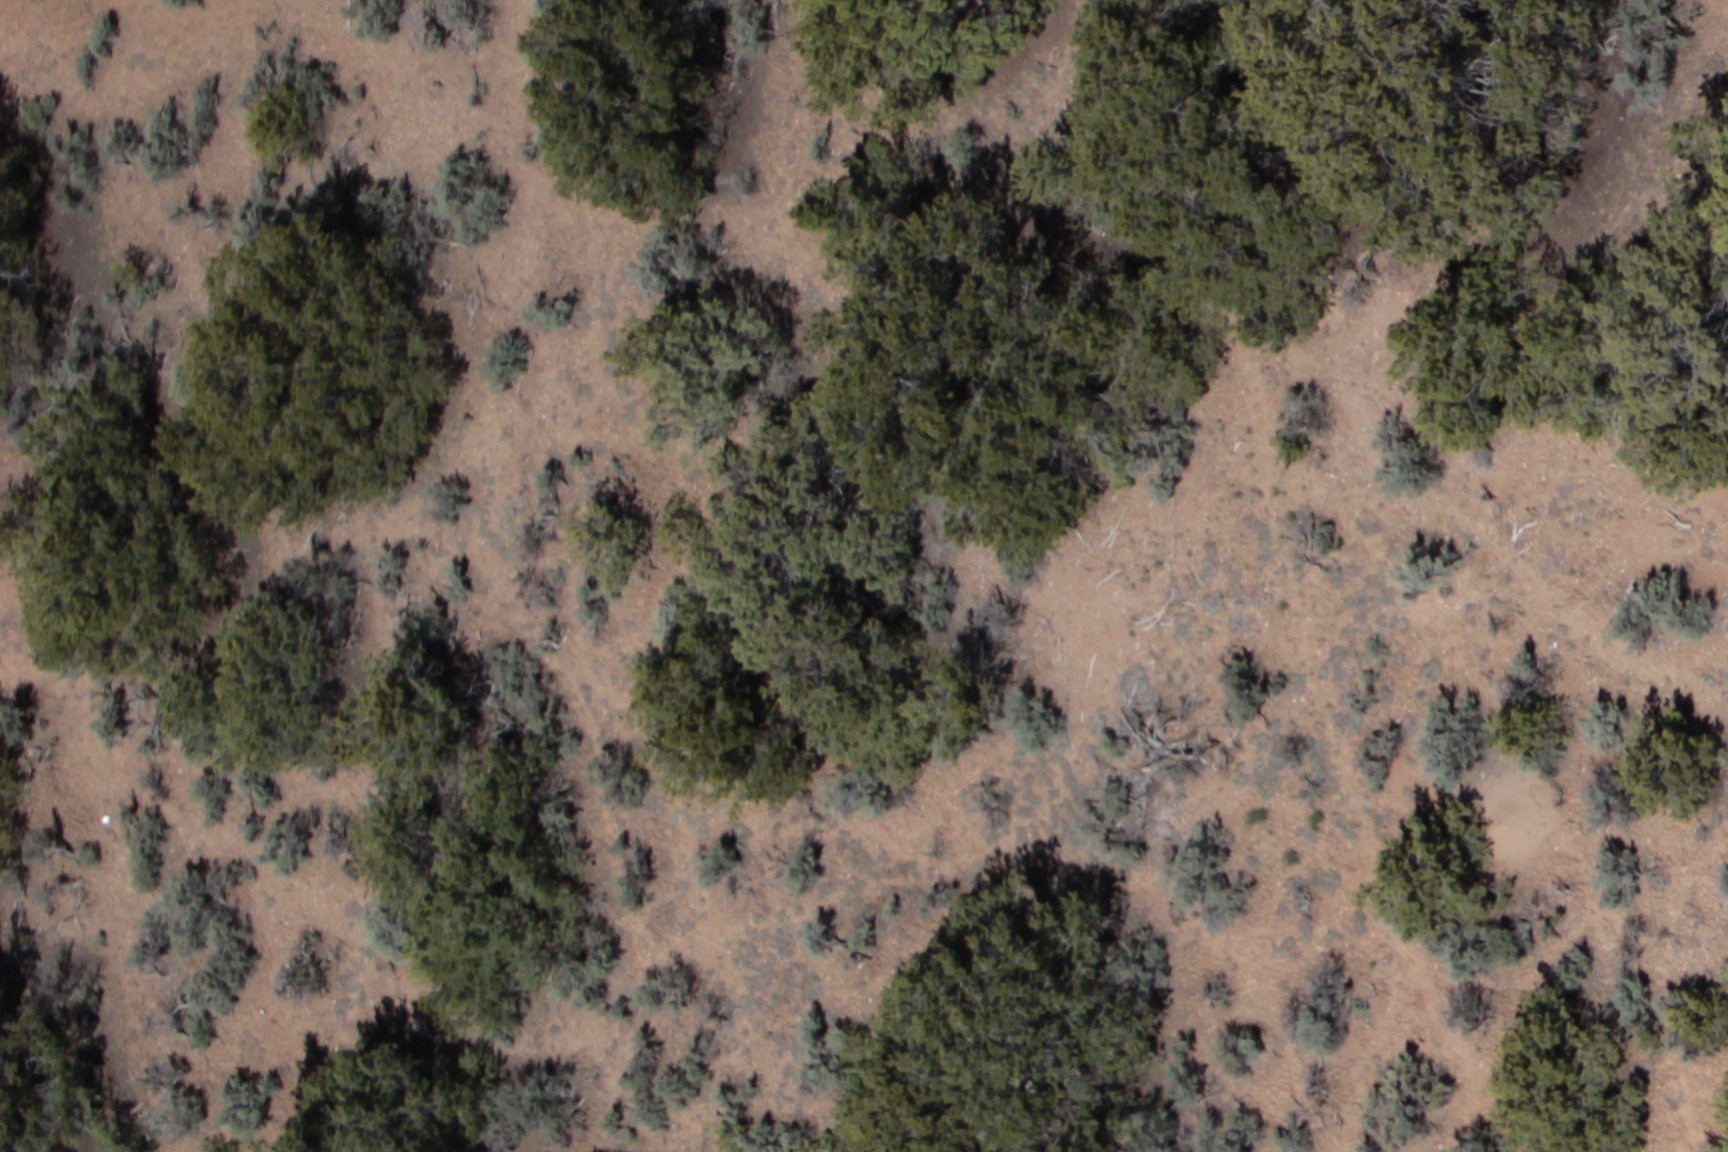burrow: (1454, 780, 1540, 870)
